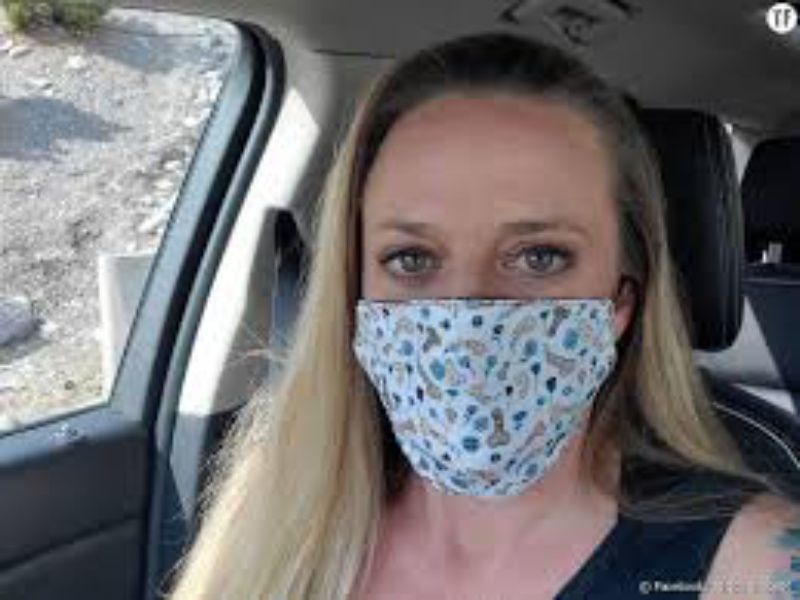ManaoArotava: (307, 51, 674, 545)
